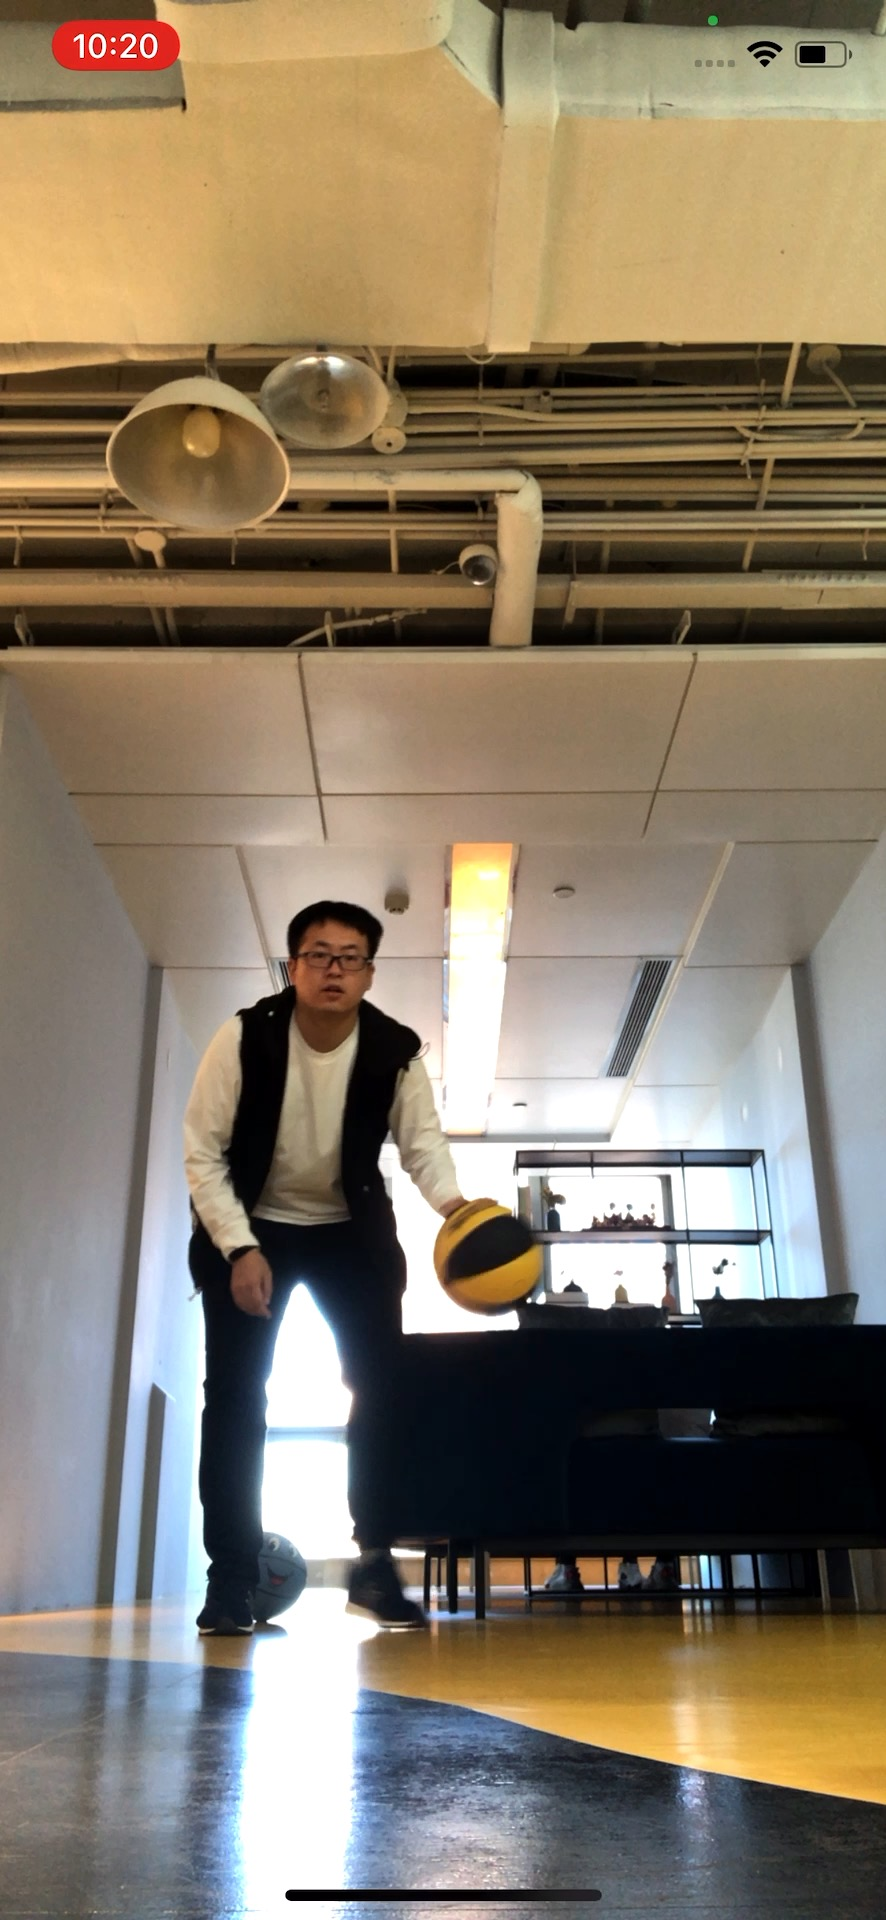ball: (433, 1206, 551, 1316), (245, 1527, 308, 1616)
